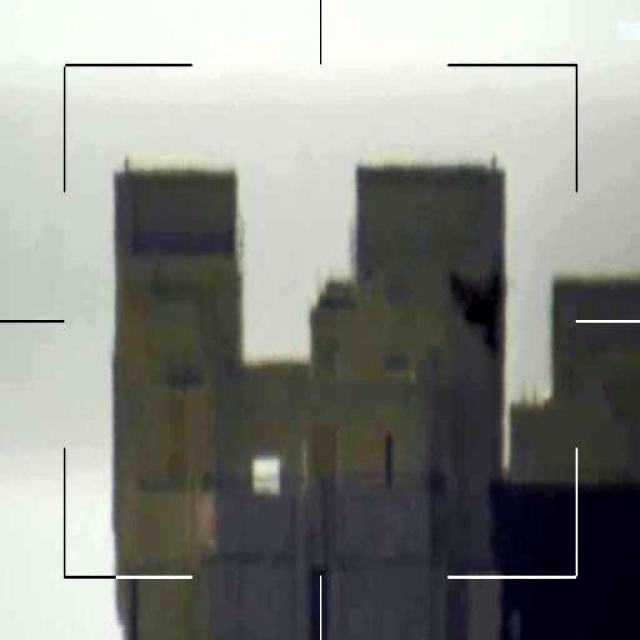bird: (451, 266, 514, 340)
